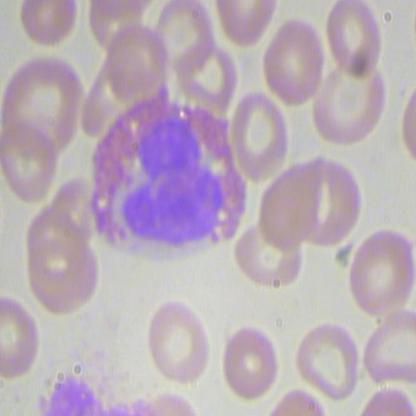RBC: (222, 87, 298, 188), (341, 224, 415, 323), (309, 60, 389, 145), (257, 12, 328, 107), (144, 297, 216, 383), (292, 317, 364, 403), (214, 312, 285, 398), (320, 1, 395, 81), (257, 160, 318, 249), (1, 112, 61, 200), (1, 287, 43, 387)
WBC: (82, 98, 252, 256)
